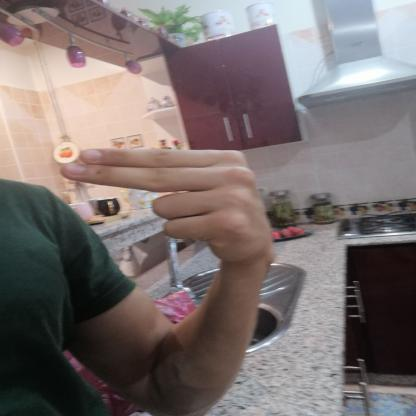AYN: (38, 129, 290, 276)
